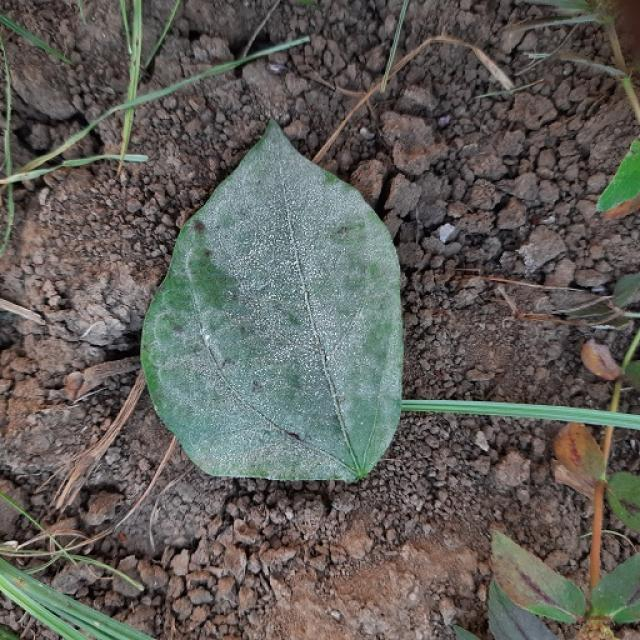Blackgram: (141, 124, 402, 481)
Powdery_Mildew: (221, 231, 345, 402), (197, 369, 306, 472), (299, 223, 381, 339), (240, 225, 309, 304), (268, 150, 343, 221), (277, 433, 345, 480), (182, 246, 230, 304), (244, 238, 292, 294), (226, 183, 275, 219)
